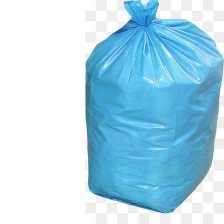plastic_bag: (78, 0, 224, 215)
